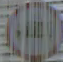Heavy Vehicles: (9, 5, 59, 49)
